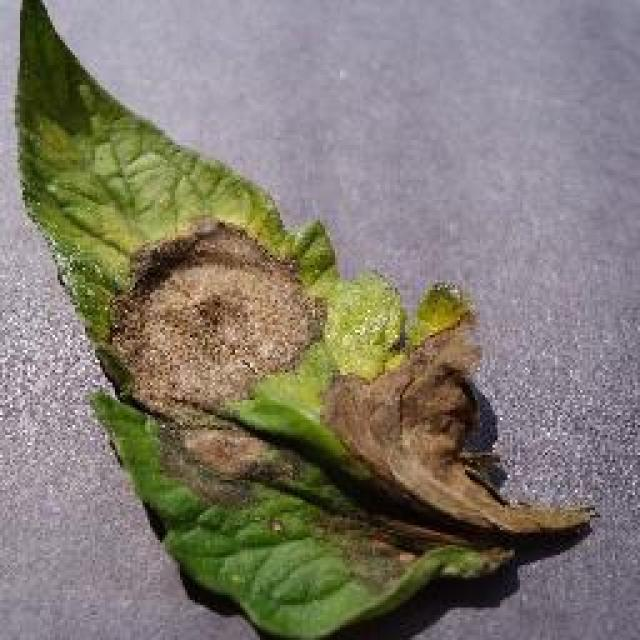Tomato Late Blight: (120, 230, 505, 552)
